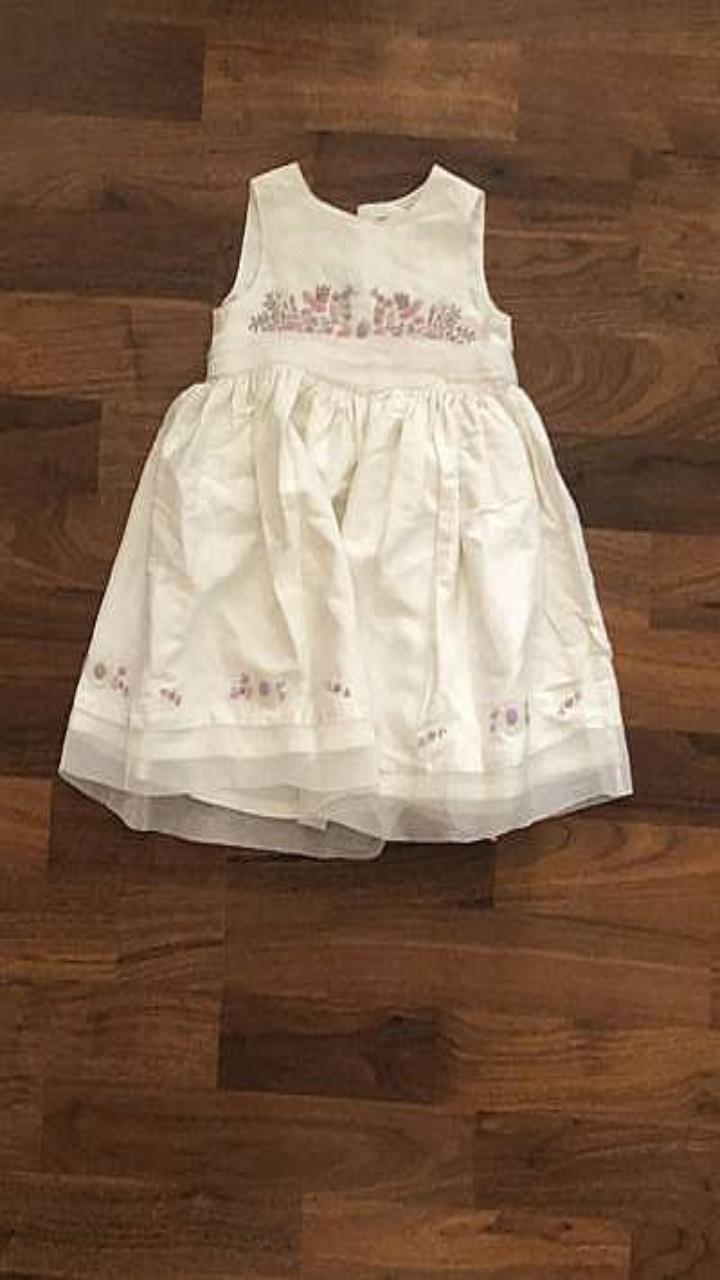Dresses: (59, 161, 632, 857)
